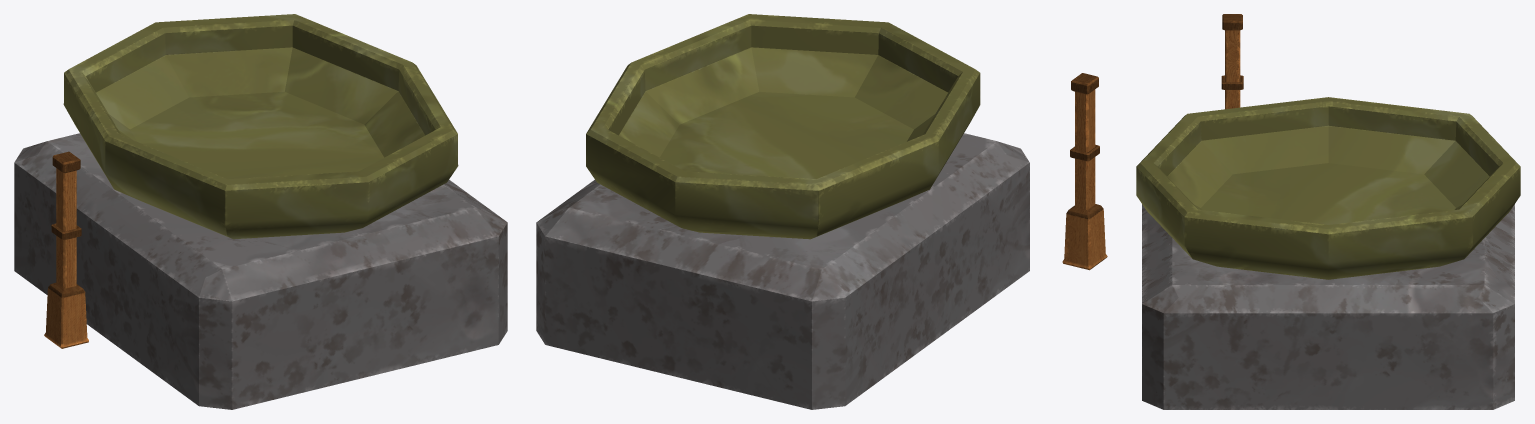
The model's file is organicos new.fbx.
The picture shows the model from 3 angles, left to right: view 1: azimuth 30°, elevation 25°; view 2: azimuth 150°, elevation 25°; view 3: azimuth 270°, elevation 25°; orthographic projection. The views are drawn at different scales.
Visible parts, largest first — view 1: Mesa, Bowl, Mortero; view 2: Mesa, Bowl, Mortero; view 3: Bowl, Mesa, Mortero.
Part boxes in pixels (x1,y1,x2,y2): Mesa: (14, 133, 507, 409); Bowl: (63, 14, 458, 239); Mortero: (44, 151, 88, 348); Mesa: (536, 133, 1029, 409); Bowl: (586, 14, 980, 239); Mortero: (1062, 73, 1107, 270); Bowl: (1136, 97, 1520, 279); Mesa: (1142, 204, 1514, 409); Mortero: (1221, 14, 1243, 109).
Size of the model in its own units: 2.78 by 1.55 by 2.49.
